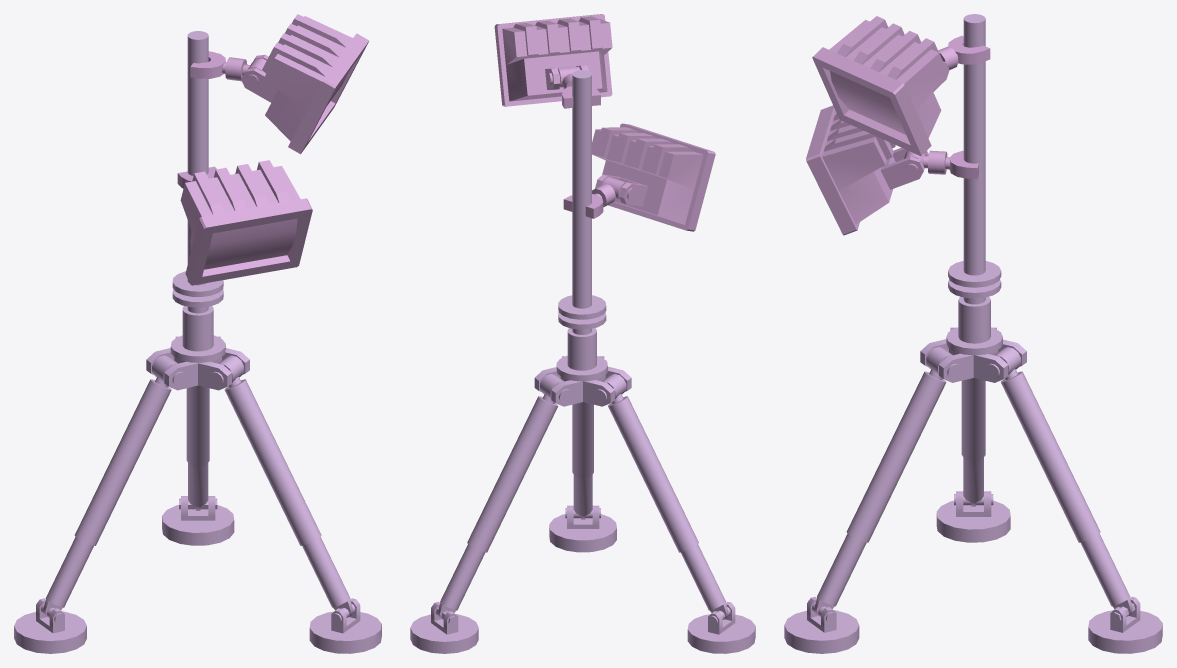
The model's file is Flood Lights.fbx.
3 renders of one model, left to right at view 1: azimuth 30°, elevation 25°; view 2: azimuth 150°, elevation 25°; view 3: azimuth 270°, elevation 25°, orthographic. The views are drawn at different scales.
Visible parts, largest first — view 1: moon_worklight03; view 2: moon_worklight03; view 3: moon_worklight03.
Part boxes in pixels (x1,y1,x2,y2): moon_worklight03: (14,14,381,653); moon_worklight03: (410,14,755,653); moon_worklight03: (784,14,1162,653).
Size of the model in its own units: 529 by 945 by 540.
